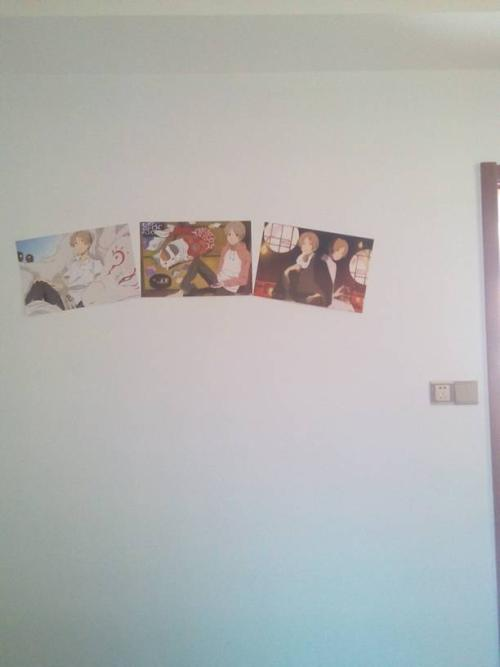bill: (253, 218, 375, 315), (12, 225, 142, 314), (137, 218, 253, 297)
